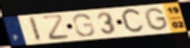3: (95, 11, 117, 36)
C: (119, 6, 146, 35)
G: (143, 7, 170, 32), (72, 13, 96, 38)
I: (27, 16, 43, 43)
Z: (40, 14, 72, 42)
